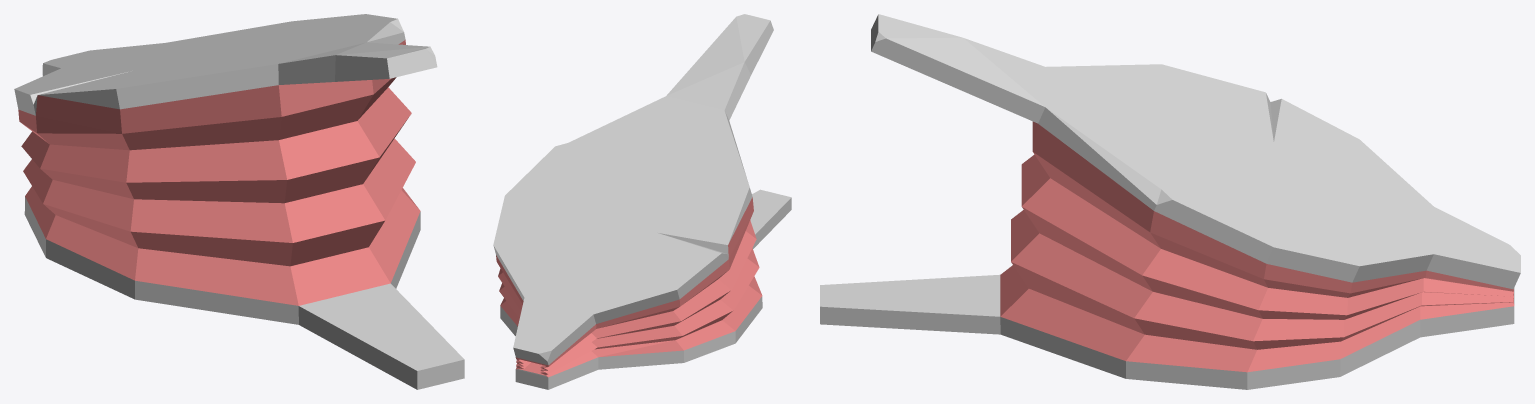
Rendered from Bellows.fbx.
3 views of the same model, side by side, from view 1: azimuth 30°, elevation 25°; view 2: azimuth 150°, elevation 25°; view 3: azimuth 270°, elevation 25° (orthographic). The views are drawn at different scales.
Parts seen in each view (by area): view 1: Bellows; view 2: Bellows; view 3: Bellows.
Part boxes in pixels (<box>): Bellows: <box>14,14,464,389</box>; Bellows: <box>493,14,791,389</box>; Bellows: <box>820,14,1520,389</box>.
Size of the model in its own units: 0.4001 by 0.3533 by 0.7757.
